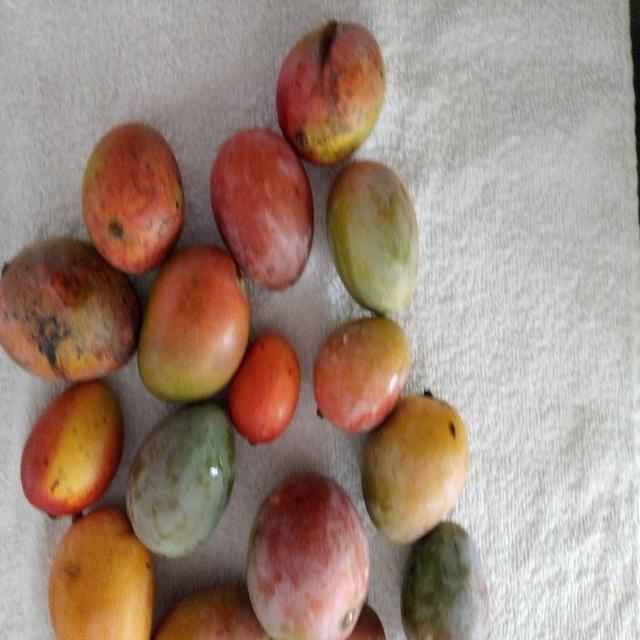mango: (247, 473, 369, 639), (0, 238, 141, 381), (138, 244, 249, 401), (127, 402, 234, 557), (211, 129, 313, 290), (362, 395, 469, 543), (277, 21, 385, 164), (82, 122, 184, 272), (326, 161, 418, 314), (49, 507, 154, 639), (21, 381, 123, 515), (313, 318, 410, 432), (401, 522, 488, 639), (228, 333, 300, 443), (154, 586, 270, 639), (349, 604, 385, 639)
